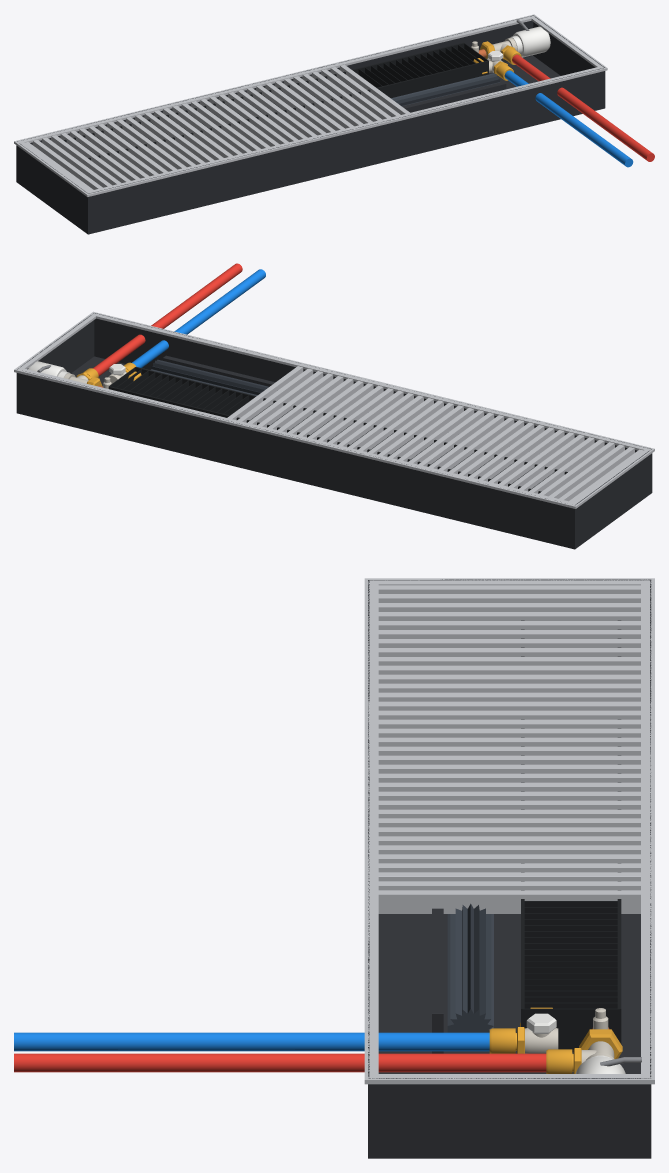
Rendered from conv_node_scq_angled.glb.
The picture shows the model from 3 angles, top to bottom: view 1: azimuth 30°, elevation 25°; view 2: azimuth 150°, elevation 25°; view 3: azimuth 270°, elevation 25°; orthographic projection. The views are drawn at different scales.
Visible parts, largest first — view 1: стенка, рамка, рамка.001, торец, стенка.001, загиб пластин, труба 16, труба 16.001, торец.001, крыльчатка, дно, кожух вентилятора (+38 smaller); view 2: стенка.001, стенка, рамка.001, рамка, торец, труба 16, торец.001, труба 16.001, крыльчатка, дно, загиб пластин, профиль решётки.003 (+37 smaller); view 3: торец.001, дно, труба 16, труба 16.001, рамка, рамка.001, крыльчатка, профиль решётки.034, рамка.003, профиль решётки.009, профиль решётки.010, профиль решётки.011 (+35 smaller).
Boxes of the visible parts, x1,y1,x2,y2 form: стенка: (87, 67, 604, 234); рамка: (84, 65, 607, 196); рамка.001: (14, 14, 536, 145); торец: (16, 143, 88, 234); стенка.001: (16, 15, 533, 181); загиб пластин: (88, 60, 488, 160); труба 16: (512, 54, 654, 161); труба 16.001: (504, 70, 633, 167); торец.001: (533, 15, 605, 107); крыльчатка: (391, 73, 500, 106); дно: (16, 56, 604, 234); кожух вентилятора: (402, 81, 506, 112); стенка.001: (16, 370, 575, 548); стенка: (94, 313, 651, 452); рамка.001: (17, 367, 579, 508); рамка: (90, 312, 654, 453); торец: (574, 449, 652, 549); труба 16: (93, 263, 242, 376); торец.001: (17, 313, 94, 373); труба 16.001: (132, 269, 265, 367); крыльчатка: (150, 359, 268, 395); дно: (71, 356, 652, 549); загиб пластин: (135, 367, 567, 474); профиль решётки.003: (539, 442, 614, 496); торец.001: (368, 1078, 650, 1157); дно: (368, 914, 650, 1158); труба 16: (14, 1053, 546, 1072); труба 16.001: (14, 1032, 489, 1051); рамка: (364, 578, 378, 1084); рамка.001: (641, 578, 654, 1084); крыльчатка: (447, 903, 493, 1032); профиль решётки.034: (378, 890, 640, 913); рамка.003: (365, 1074, 654, 1084); профиль решётки.009: (378, 665, 640, 674); профиль решётки.010: (378, 674, 640, 683); профиль решётки.011: (378, 683, 640, 692).
Bounding box in the file's own units: 1.01 × 0.0785 × 0.543.
